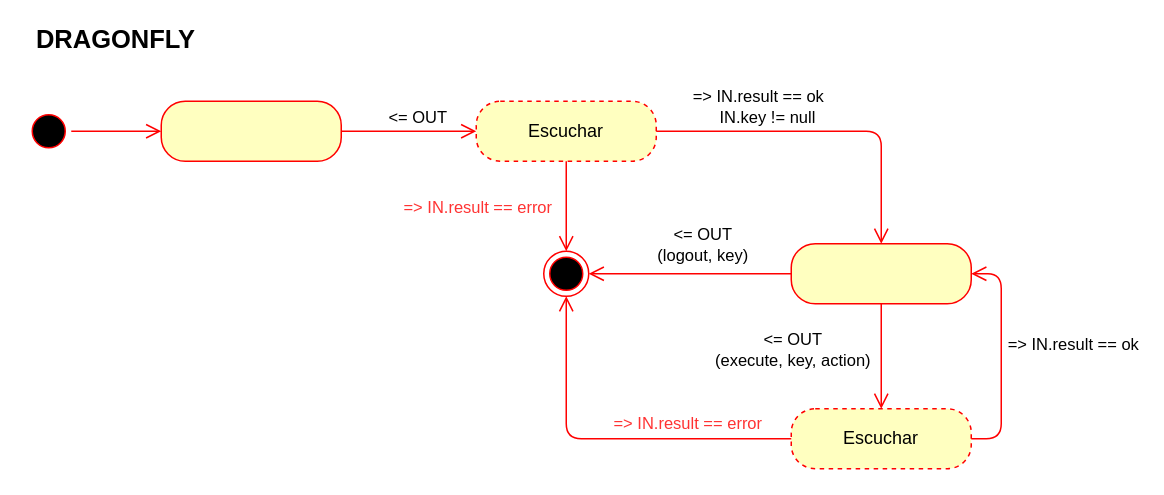
This 1164x495 diagram has some shape labels left out. Each missing label, with the box of its shape:
Crear acción: (790, 242, 971, 304)
Crear login: (160, 100, 341, 161)
